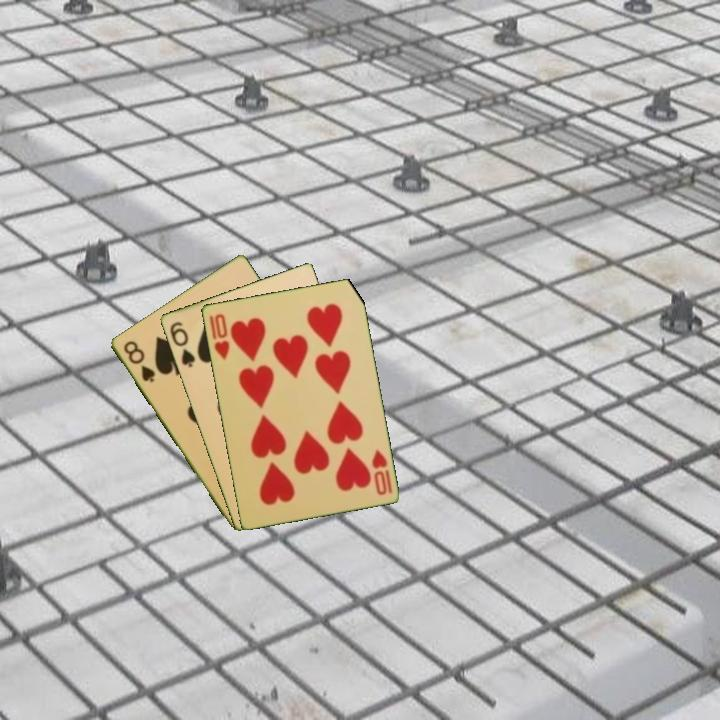10h: (205, 310, 232, 363), (368, 446, 395, 498)
6s: (166, 318, 198, 370)
8s: (120, 337, 158, 385)
